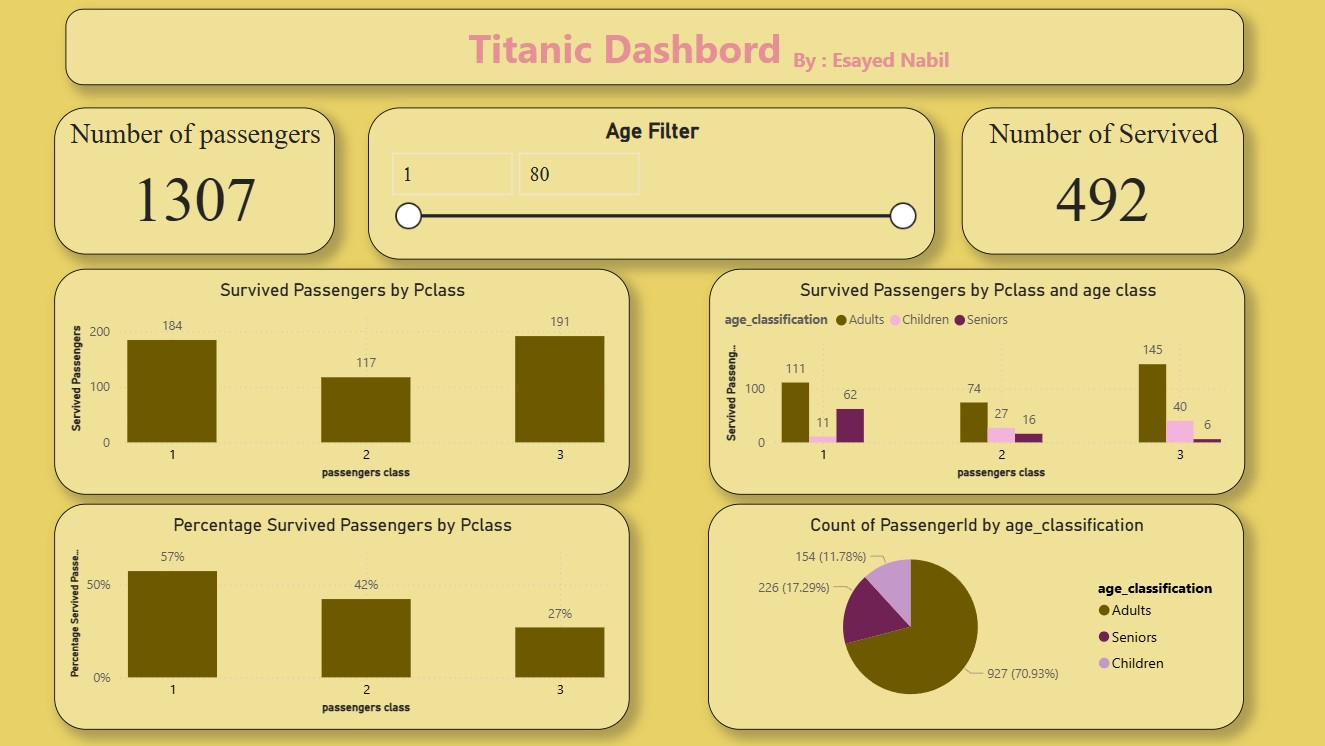

The page's visual inventory and layout, read from the dashboard file:
{"tool":"powerbi","page":{"name":"Page 1","canvas":[1280,720],"ordinal":0},"visuals":[{"type":"textbox","box":[78.6,17.9,1122.6,72.6],"z":0},{"type":"card","title":"Number of passengers","fields":{"Values":["CountNonNull(titanic.PassengerId)"]},"box":[67.5,112.5,267.5,140],"z":1000},{"type":"card","title":"Number of Servived","fields":{"Values":["Sum(titanic.Survived)"]},"box":[932.5,112.5,268.8,140],"z":2000},{"type":"slicer","title":"Age Filter","fields":{"Values":["titanic.Age"]},"box":[366.2,112.5,540,145],"z":3000},{"type":"clusteredColumnChart","title":"Survived Passengers by Pclass","fields":{"Category":["titanic.Pclass"],"Y":["Sum(titanic.Survived)"]},"box":[67.9,265.5,547.6,215.5],"z":4000},{"type":"clusteredColumnChart","title":"Survived Passengers by Pclass and age class","fields":{"Category":["titanic.Pclass"],"Y":["Sum(titanic.Survived)"],"Series":["titanic.age_classification"]},"box":[691.7,265.5,510.7,215.5],"z":5000},{"type":"clusteredColumnChart","title":"Percentage Survived Passengers by Pclass","fields":{"Category":["titanic.Pclass"],"Y":["titanic.servived_per"]},"box":[67.9,489.3,547.6,215.5],"z":6000},{"type":"pieChart","fields":{"Category":["titanic.age_classification"],"Y":["CountNonNull(titanic.PassengerId)"]},"box":[690.5,489.3,510.7,215.5],"z":7000}]}

Visuals, with their boxes in screenshot pixels (x1, y1, x2, y2), scaled from the page's 1280x720 canvas onto the 1325x746 screenshot:
textbox: bbox=(81, 19, 1243, 94)
"Number of passengers" card: bbox=(70, 117, 347, 262)
"Number of Servived" card: bbox=(965, 117, 1244, 262)
"Age Filter" slicer: bbox=(379, 117, 938, 267)
"Survived Passengers by Pclass" clusteredColumnChart: bbox=(70, 275, 637, 498)
"Survived Passengers by Pclass and age class" clusteredColumnChart: bbox=(716, 275, 1245, 498)
"Percentage Survived Passengers by Pclass" clusteredColumnChart: bbox=(70, 507, 637, 730)
pieChart - titanic.age_classification x CountNonNull(titanic.PassengerId): bbox=(715, 507, 1243, 730)
